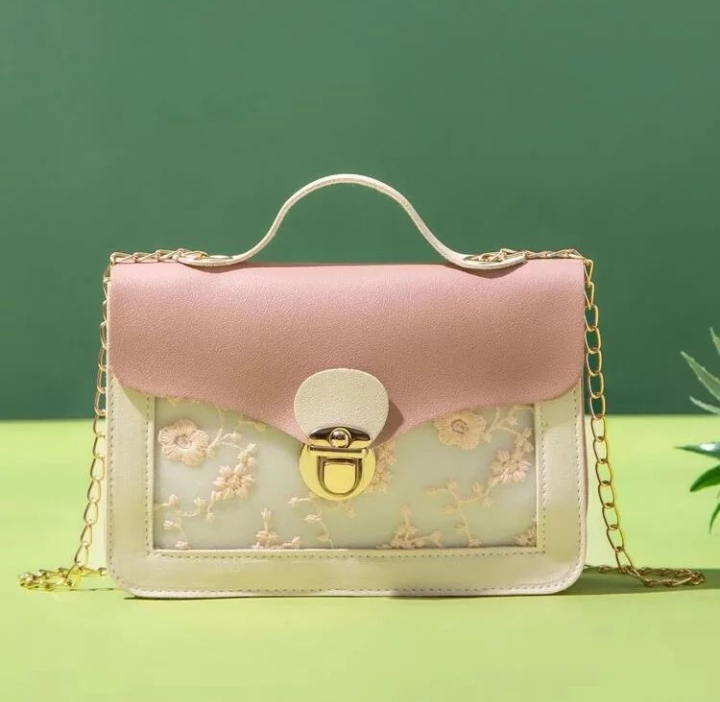cartera: (74, 166, 615, 609)
cuero: (207, 302, 279, 354)
